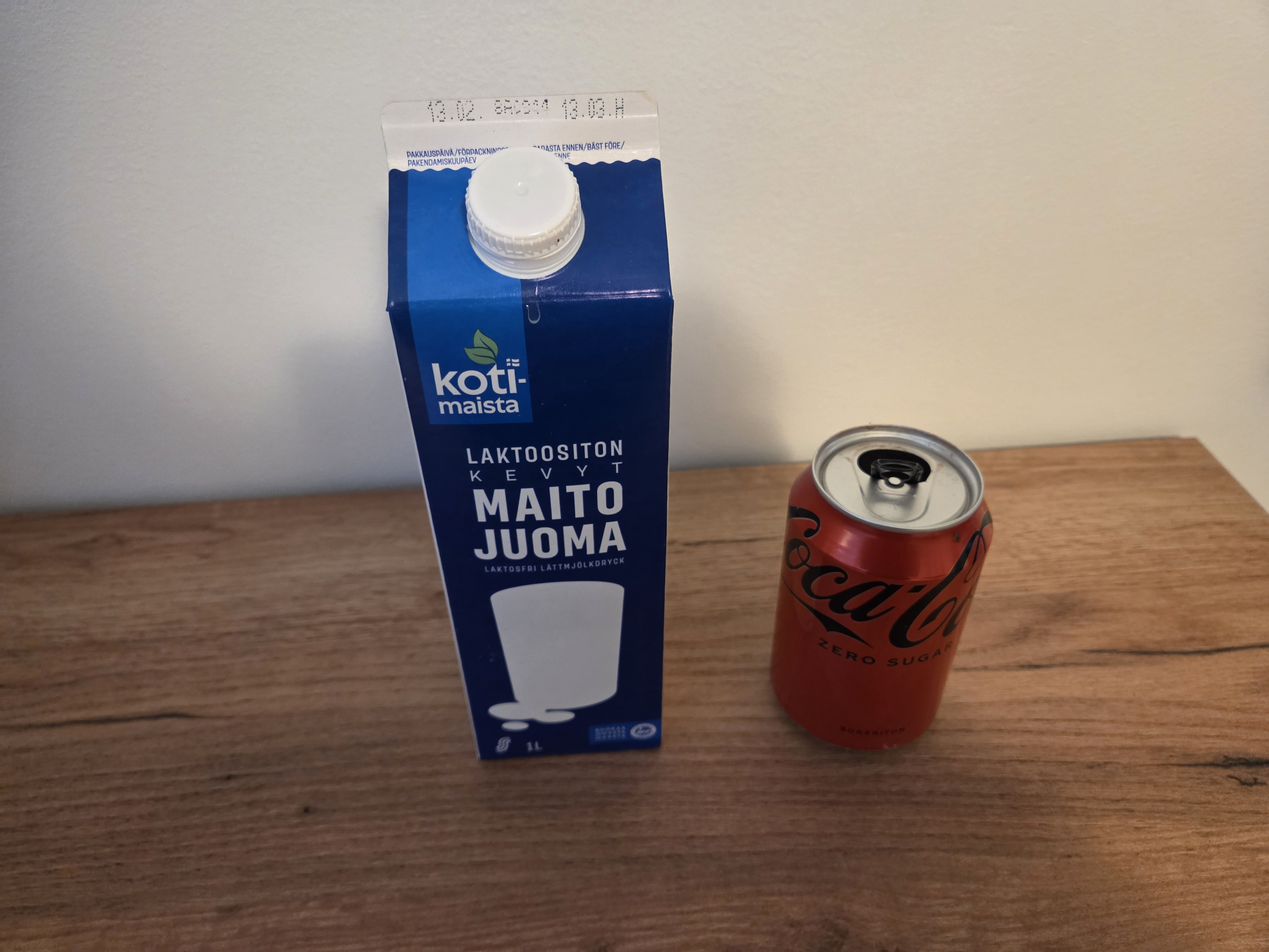Dryckeskartong: (385, 91, 676, 763)
Pantburk: (769, 425, 995, 752)
